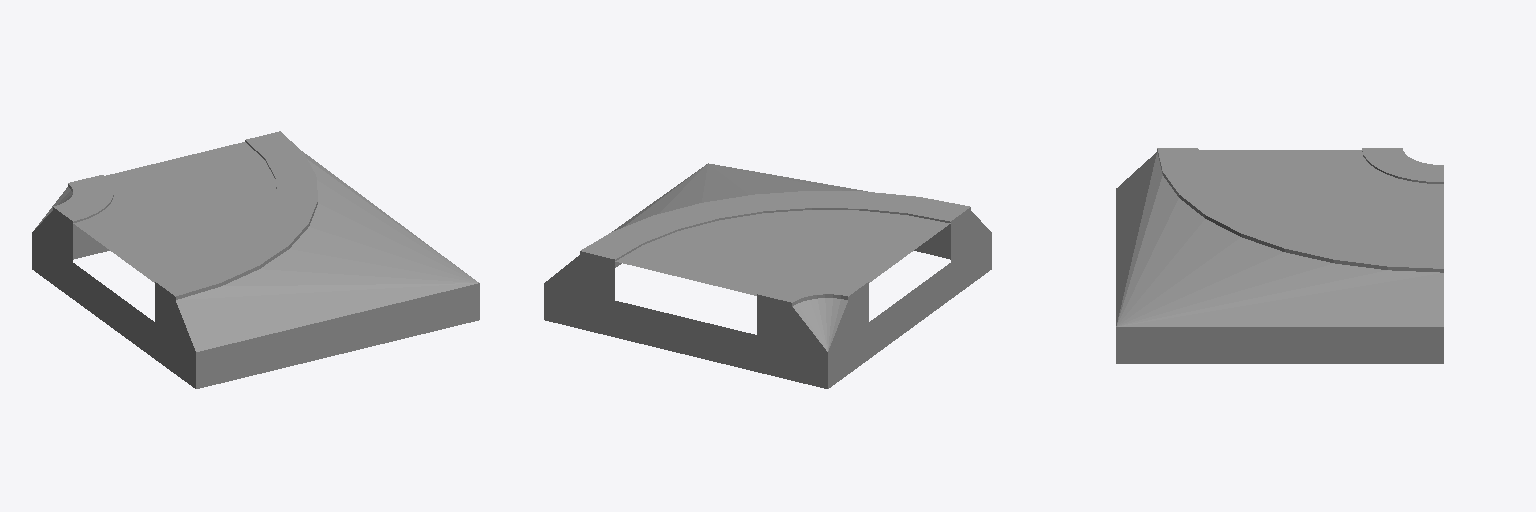
File: roadbend.obj
3 views of the same model, side by side, from view 1: azimuth 30°, elevation 25°; view 2: azimuth 150°, elevation 25°; view 3: azimuth 270°, elevation 25° (orthographic).
Visible parts, largest first — view 1: road-corner-low_Cube.127; view 2: road-corner-low_Cube.127; view 3: road-corner-low_Cube.127.
Part boxes in pixels (x1,y1,x2,y2): road-corner-low_Cube.127: (32,131,479,388); road-corner-low_Cube.127: (544,163,991,388); road-corner-low_Cube.127: (1116,148,1443,363).
Bounding box in the file's own units: 8 × 2.1 × 8.